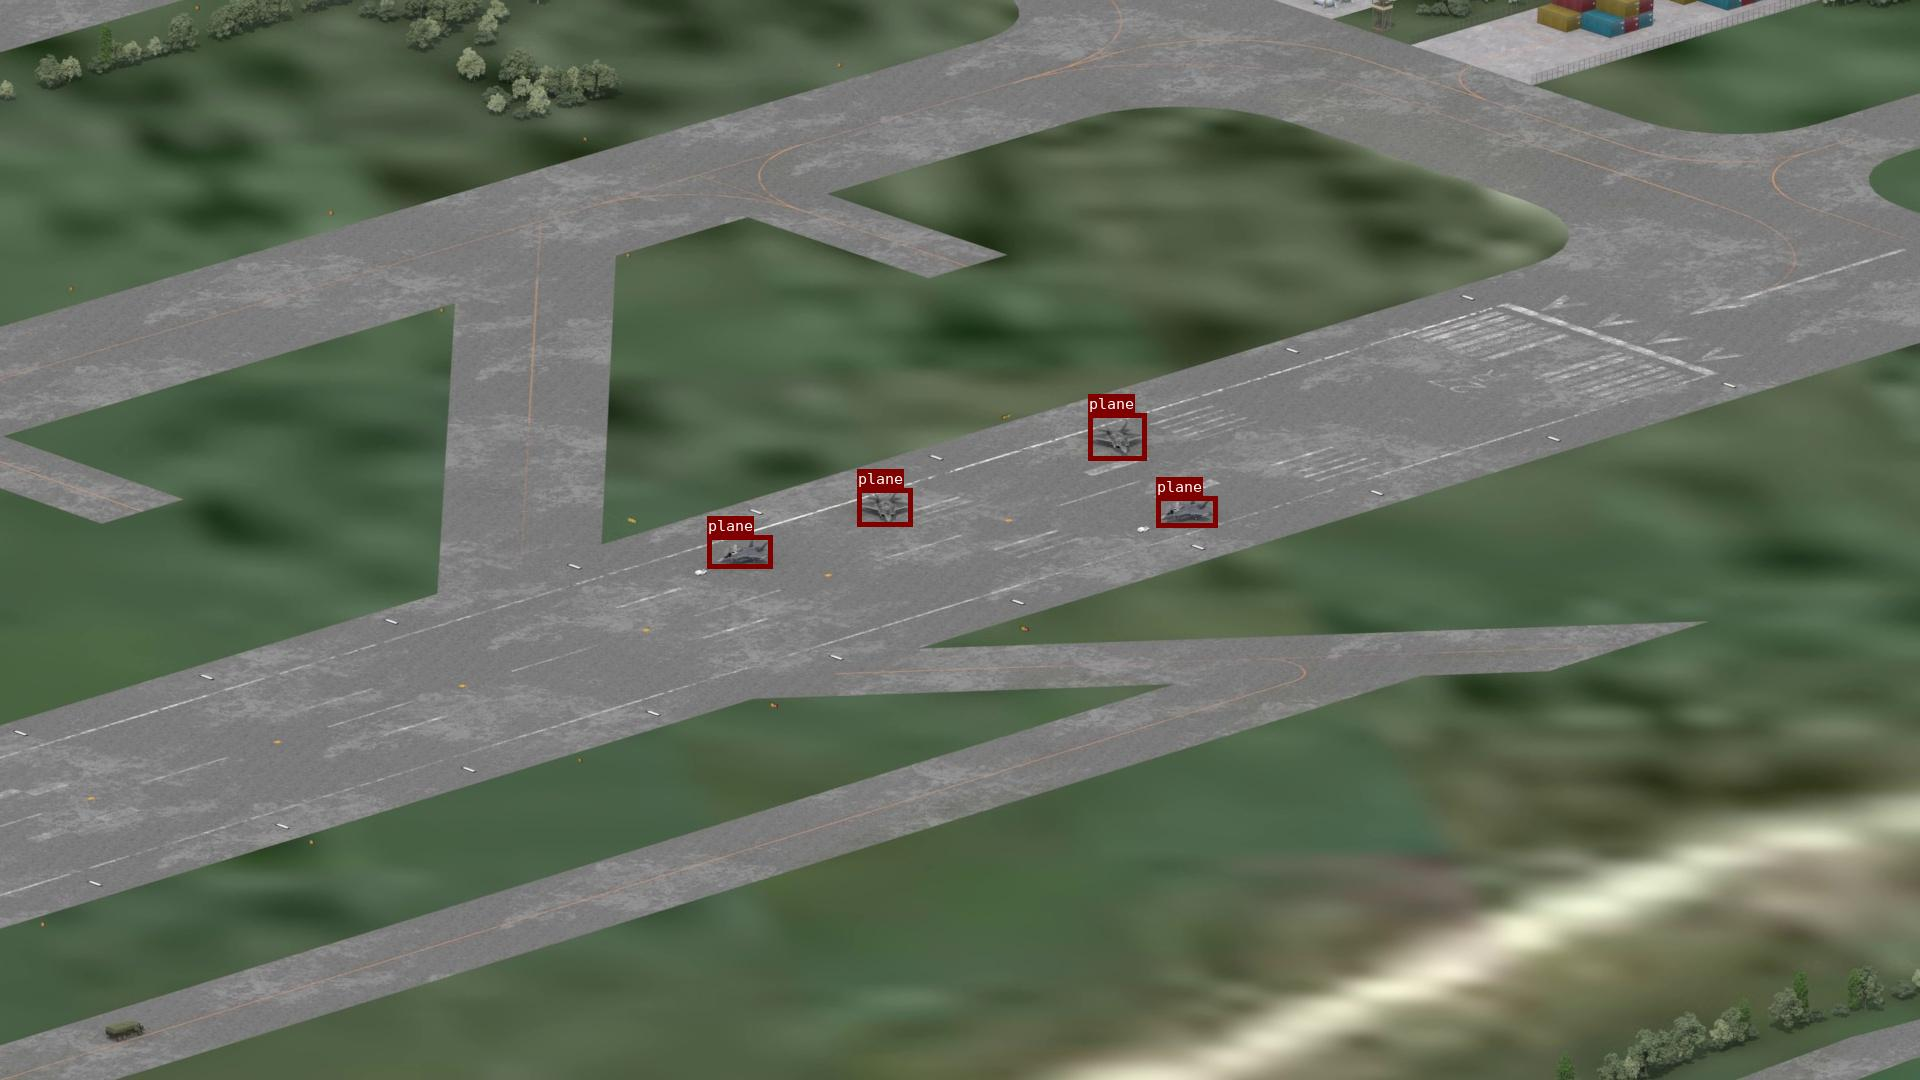plane: (1088, 413, 1146, 460), (707, 535, 771, 568), (857, 488, 913, 526), (1156, 496, 1217, 527)
